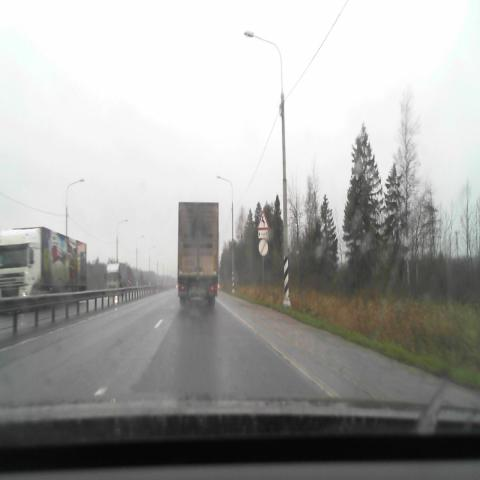1_27: (256, 210, 270, 229)
3_31: (258, 239, 268, 256)
